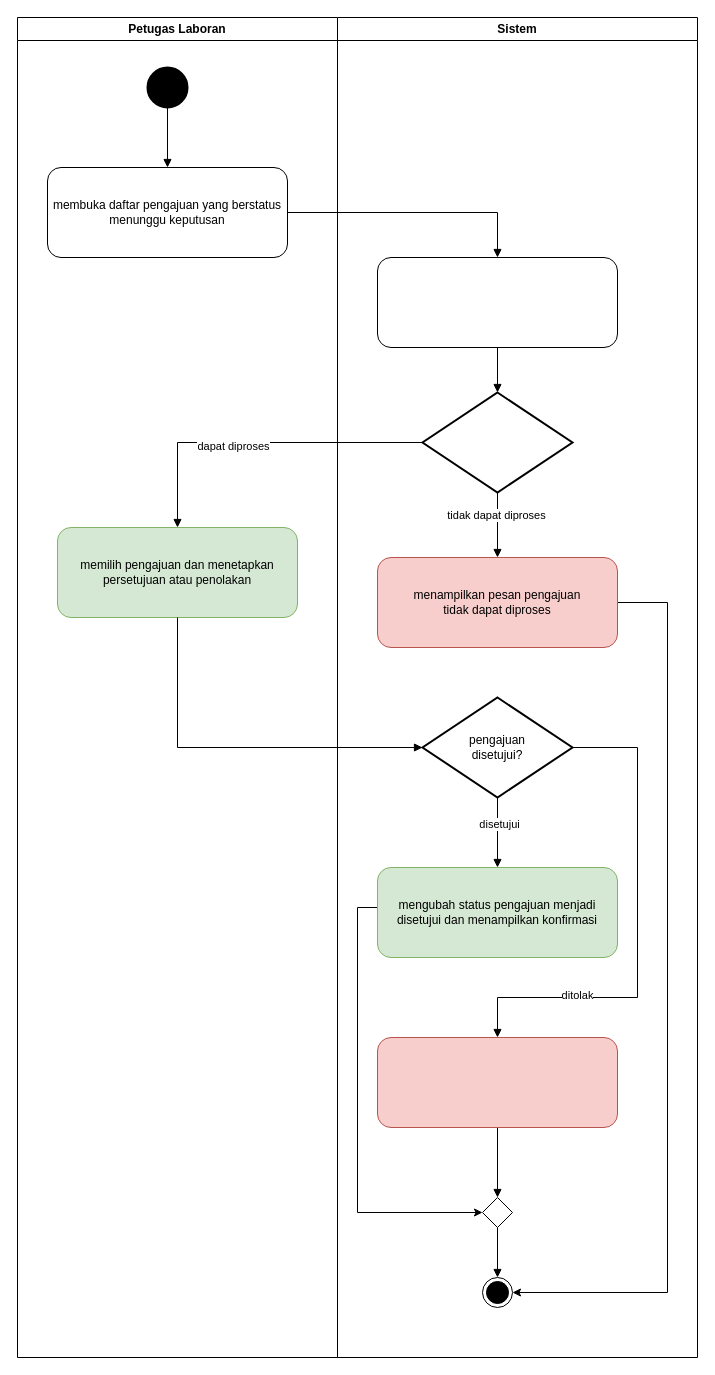
This 715x1375 diagram has some shape labels left out. The shapes that lost their labels are listed below. From the top down, each one's centre as x and y in pixels, then its label:
At (497,302): "menampilkan daftar pengajuan yang berstatus menunggu keputusan".
At (497,442): "pengajuan dapat diproses?".
At (497,1082): "mengubah status pengajuan menjadi ditolak dan menampilkan konfirmasi penolakan".
